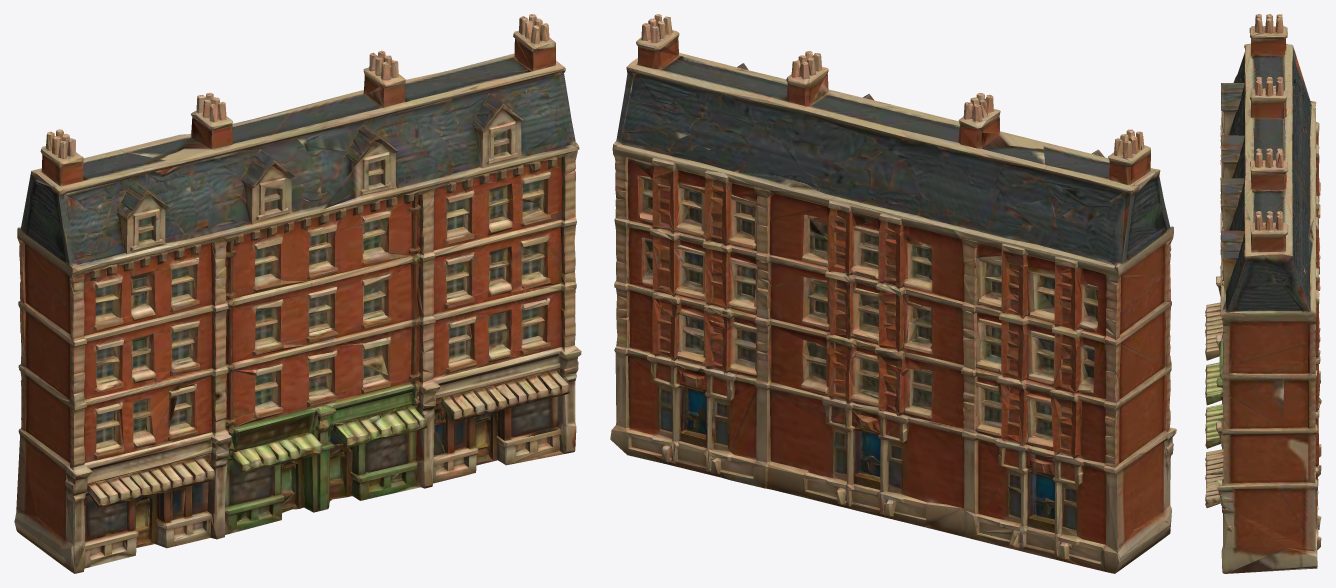
Rendered from shops_1x3.glb.
3 renders of one model, left to right at view 1: azimuth 30°, elevation 25°; view 2: azimuth 150°, elevation 25°; view 3: azimuth 270°, elevation 25°, orthographic. The views are drawn at different scales.
Parts seen in each view (by area): view 1: normalize; view 2: normalize; view 3: normalize.
Part boxes in pixels (box(x1,y1,x2,y2)): normalize: box(14, 14, 581, 573); normalize: box(610, 14, 1176, 573); normalize: box(1205, 14, 1321, 573).
Size of the model in its own units: 1 by 0.7777 by 0.2322.
1 material, 1 textured.
